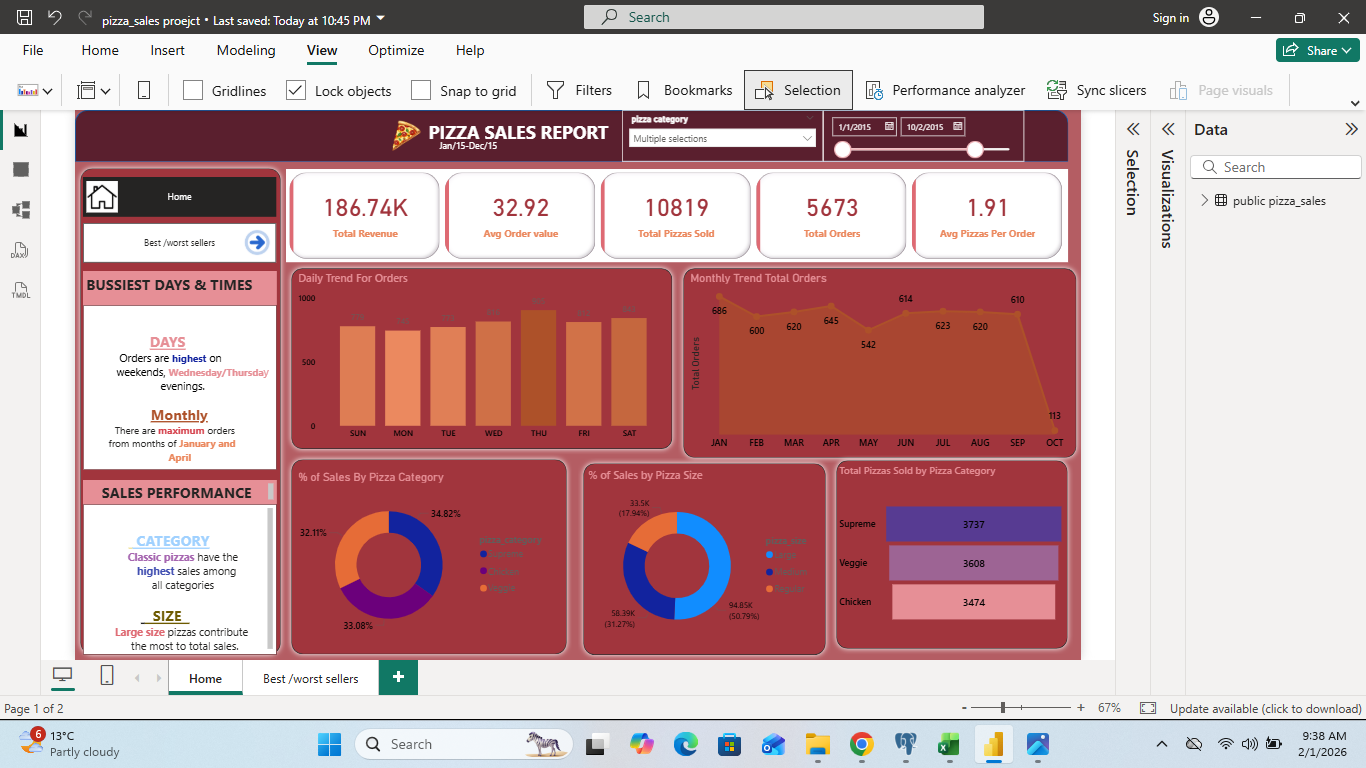

This screenshot's page, from the dashboard's own definition file:
{"tool":"powerbi","page":{"name":"Home","canvas":[1500,820],"ordinal":0},"visuals":[{"type":"shape","box":[0,78.7,314.9,741.3],"z":0},{"type":"cardVisual","fields":{"Data":["public pizza_sales.Total Revenue","public pizza_sales.Avg Order value","public pizza_sales.Total Pizzas Sold","public pizza_sales.Total Orders","public pizza_sales.Avg Pizzas Per Order"]},"box":[314.9,88.6,1166,139.4],"z":1000},{"type":"shape","box":[0,0,1480.9,77.1],"z":2000},{"type":"textbox","box":[501.2,8.8,320,47.5],"z":3000},{"type":"textbox","box":[537.5,38.8,178.8,38.8],"z":4000},{"type":"image","box":[460,0,63.8,77.5],"z":5000},{"type":"shape","box":[314.9,228,583.8,285.4],"z":6000},{"type":"columnChart","title":"Daily Trend For Orders","fields":{"Category":["public pizza_sales.Order Day"],"Y":["public pizza_sales.Total Orders"]},"box":[328,239.4,557.6,260.8],"z":7000},{"type":"shape","box":[898.7,228,601.9,298.5],"z":8000},{"type":"areaChart","title":"Monthly Trend Total Orders","fields":{"Category":["public pizza_sales.Order Month"],"Y":["public pizza_sales.Total Orders"]},"box":[911.8,239.4,575.6,273.9],"z":9000},{"type":"shape","box":[314.9,513.3,426.4,306.7],"z":10000},{"type":"shape","box":[749.5,518.2,377.2,301.8],"z":11000},{"type":"shape","box":[1126.7,515,360.8,296.8],"z":12000},{"type":"donutChart","title":"% of Sales By Pizza Category","fields":{"Category":["public pizza_sales.pizza_category"],"Y":["public pizza_sales.Total Revenue"]},"box":[328,536.3,388.7,264],"z":13000},{"type":"donutChart","title":"% of Sales by Pizza Size","fields":{"Category":["public pizza_sales.pizza_size"],"Y":["public pizza_sales.Total Revenue"]},"box":[761,533,354.2,270.6],"z":14000},{"type":"funnel","title":"Total Pizzas Sold by Pizza Category","fields":{"Category":["public pizza_sales.pizza_category"],"Y":["public pizza_sales.Total Pizzas Sold"]},"box":[1134.9,526.4,346,277.2],"z":15000},{"type":"textbox","box":[11.5,239.4,288.6,50.8],"z":16000},{"type":"textbox","box":[11.5,290.3,288.6,246],"z":17000},{"type":"textbox","box":[11.5,551,288.6,36.1],"z":18000},{"type":"textbox","box":[11.5,587.1,288.6,224.7],"z":19000},{"type":"slicer","fields":{"Values":["public pizza_sales.pizza_category"]},"box":[815.1,0,300.1,77.1],"z":20000},{"type":"slicer","fields":{"Values":["public pizza_sales.order_date"]},"box":[1115.2,0,300.1,77.1],"z":21000},{"type":"pageNavigator","box":[11.5,100,288.6,59],"z":22000},{"type":"pageNavigator","box":[11.5,168.9,288.6,59],"z":23000},{"type":"image","box":[242.7,167.3,57.4,60.7],"z":24000},{"type":"image","box":[11.5,100,57.4,59],"z":25000}]}

Visuals, with their boxes on the page's 1500x820 design canvas (x1, y1, x2, y2). These are canvas units, not pixel positions in the 1366x768 screenshot, which may show the page scaled, cropped or inside an application window:
shape: select_region(0, 79, 315, 820)
cardVisual - public pizza_sales.Total Revenue x public pizza_sales.Avg Order value: select_region(315, 89, 1481, 228)
shape: select_region(0, 0, 1481, 77)
textbox: select_region(501, 9, 821, 56)
textbox: select_region(538, 39, 716, 78)
image: select_region(460, 0, 524, 78)
shape: select_region(315, 228, 899, 513)
"Daily Trend For Orders" columnChart: select_region(328, 239, 886, 500)
shape: select_region(899, 228, 1501, 526)
"Monthly Trend Total Orders" areaChart: select_region(912, 239, 1487, 513)
shape: select_region(315, 513, 741, 820)
shape: select_region(750, 518, 1127, 820)
shape: select_region(1127, 515, 1488, 812)
"% of Sales By Pizza Category" donutChart: select_region(328, 536, 717, 800)
"% of Sales by Pizza Size" donutChart: select_region(761, 533, 1115, 804)
"Total Pizzas Sold by Pizza Category" funnel: select_region(1135, 526, 1481, 804)
textbox: select_region(12, 239, 300, 290)
textbox: select_region(12, 290, 300, 536)
textbox: select_region(12, 551, 300, 587)
textbox: select_region(12, 587, 300, 812)
slicer - public pizza_sales.pizza_category: select_region(815, 0, 1115, 77)
slicer - public pizza_sales.order_date: select_region(1115, 0, 1415, 77)
pageNavigator: select_region(12, 100, 300, 159)
pageNavigator: select_region(12, 169, 300, 228)
image: select_region(243, 167, 300, 228)
image: select_region(12, 100, 69, 159)
